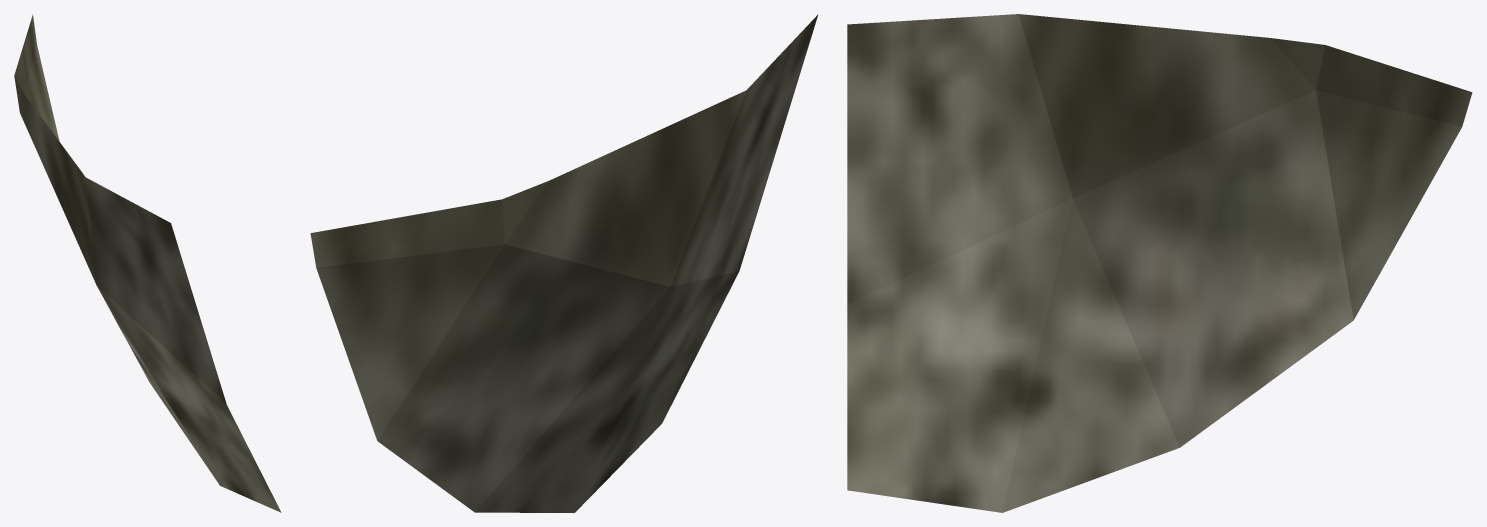
3 views of the same model, side by side, from view 1: azimuth 30°, elevation 25°; view 2: azimuth 150°, elevation 25°; view 3: azimuth 270°, elevation 25° (orthographic). The views are drawn at different scales.
Size of the model in its own units: 0.206 by 0.516 by 0.6948.
1 material, 1 textured.
